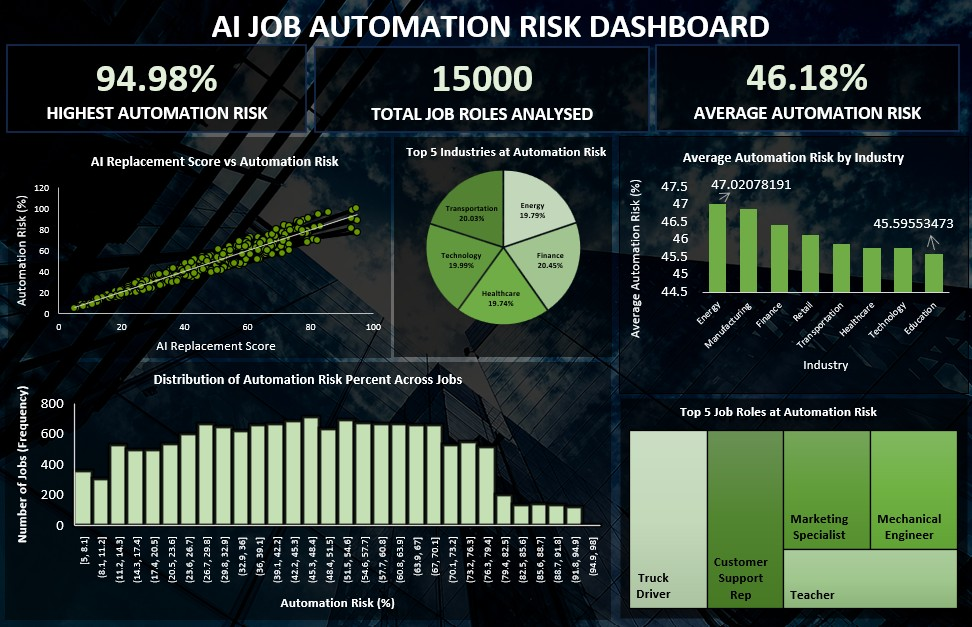

Layout of this report page (visuals, bound fields, positions):
{"tool":"tableau","page":{"name":"Dashboard","canvas":[1600,900],"ordinal":0},"visuals":[{"type":"text","box":[13,13,1574,51]},{"type":"worksheet","title":"KPI - Max Automation Risk","mark":"Automatic","box":[13,64,520,118]},{"type":"worksheet","title":"KPI - Total Job Roles","mark":"Automatic","box":[533,64,533,118]},{"type":"worksheet","title":"KPI - Avg Automation Risk","mark":"Automatic","box":[1066,64,521,118]},{"type":"worksheet","title":"Scatter Plot","mark":"Circle","rows":["reskilling_urgency_score"],"cols":["skill_gap_index"],"box":[13,182,553,248]},{"type":"worksheet","title":"Histogram","mark":"Automatic","rows":["automation_risk_percent"],"cols":["Automation Risk Percent (bin)"],"box":[566,182,894,248]},{"type":"legend","title":"Heatmap","param":"[federated.1yyuasm1w95noe15sswyt1hpaow4].[avg:automation_risk_percent:qk]","box":[1460,182,127,158]},{"type":"legend","title":"Line Chart","param":"[federated.1yyuasm1w95noe15sswyt1hpaow4].[none:Forecast Indicator:nk]","box":[1460,340,127,64]},{"type":"worksheet","title":"Bar Chart","mark":"Automatic","rows":["job_role"],"cols":["automation_risk_percent"],"box":[13,430,283,457]},{"type":"worksheet","title":"Line Chart","mark":"Automatic","rows":["automation_risk_percent"],"cols":["year"],"box":[296,430,846,197]},{"type":"worksheet","title":"Pie Chart","mark":"Pie","box":[1142,430,318,457]},{"type":"worksheet","title":"Heatmap","mark":"Square","rows":["industry"],"cols":["job_role"],"box":[296,627,846,260]}]}

Visuals, with their boxes on the page's 1600x900 design canvas (x1, y1, x2, y2). These are canvas units, not pixel positions in the 972x627 screenshot, which may show the page scaled, cropped or inside an application window:
text: pyautogui.locateOnScreen(13, 13, 1587, 64)
"KPI - Max Automation Risk" worksheet: pyautogui.locateOnScreen(13, 64, 533, 182)
"KPI - Total Job Roles" worksheet: pyautogui.locateOnScreen(533, 64, 1066, 182)
"KPI - Avg Automation Risk" worksheet: pyautogui.locateOnScreen(1066, 64, 1587, 182)
"Scatter Plot" worksheet (Circle marks): pyautogui.locateOnScreen(13, 182, 566, 430)
"Histogram" worksheet: pyautogui.locateOnScreen(566, 182, 1460, 430)
"Heatmap" legend: pyautogui.locateOnScreen(1460, 182, 1587, 340)
"Line Chart" legend: pyautogui.locateOnScreen(1460, 340, 1587, 404)
"Bar Chart" worksheet: pyautogui.locateOnScreen(13, 430, 296, 887)
"Line Chart" worksheet: pyautogui.locateOnScreen(296, 430, 1142, 627)
"Pie Chart" worksheet (Pie marks): pyautogui.locateOnScreen(1142, 430, 1460, 887)
"Heatmap" worksheet (Square marks): pyautogui.locateOnScreen(296, 627, 1142, 887)
